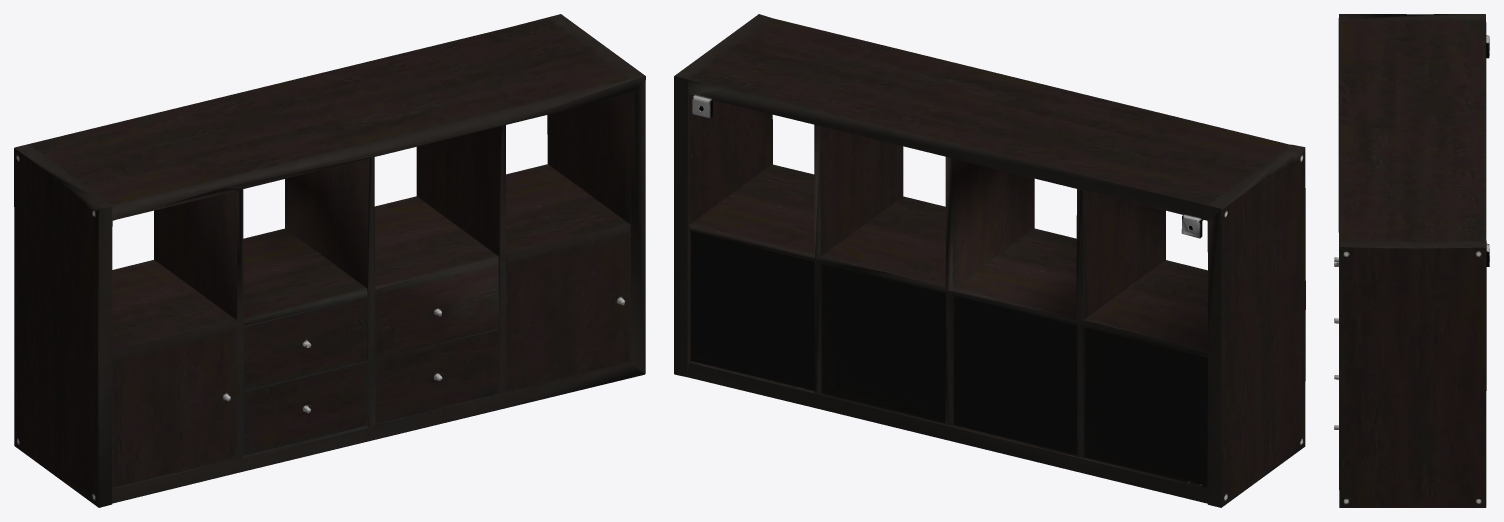
3 renders of one model, left to right at view 1: azimuth 30°, elevation 25°; view 2: azimuth 150°, elevation 25°; view 3: azimuth 270°, elevation 25°, orthographic. The views are drawn at different scales.
Parts seen in each view (by area): view 1: ProcessedMeshNode; view 2: ProcessedMeshNode; view 3: ProcessedMeshNode.
Boxes of the visible parts, x1=… form: ProcessedMeshNode: x1=14, y1=14, x2=645, y2=507; ProcessedMeshNode: x1=674, y1=14, x2=1305, y2=507; ProcessedMeshNode: x1=1334, y1=14, x2=1489, y2=507.
Bounding box in the file's own units: 1.47 × 0.7685 × 0.4146.
1 material, 1 textured.
